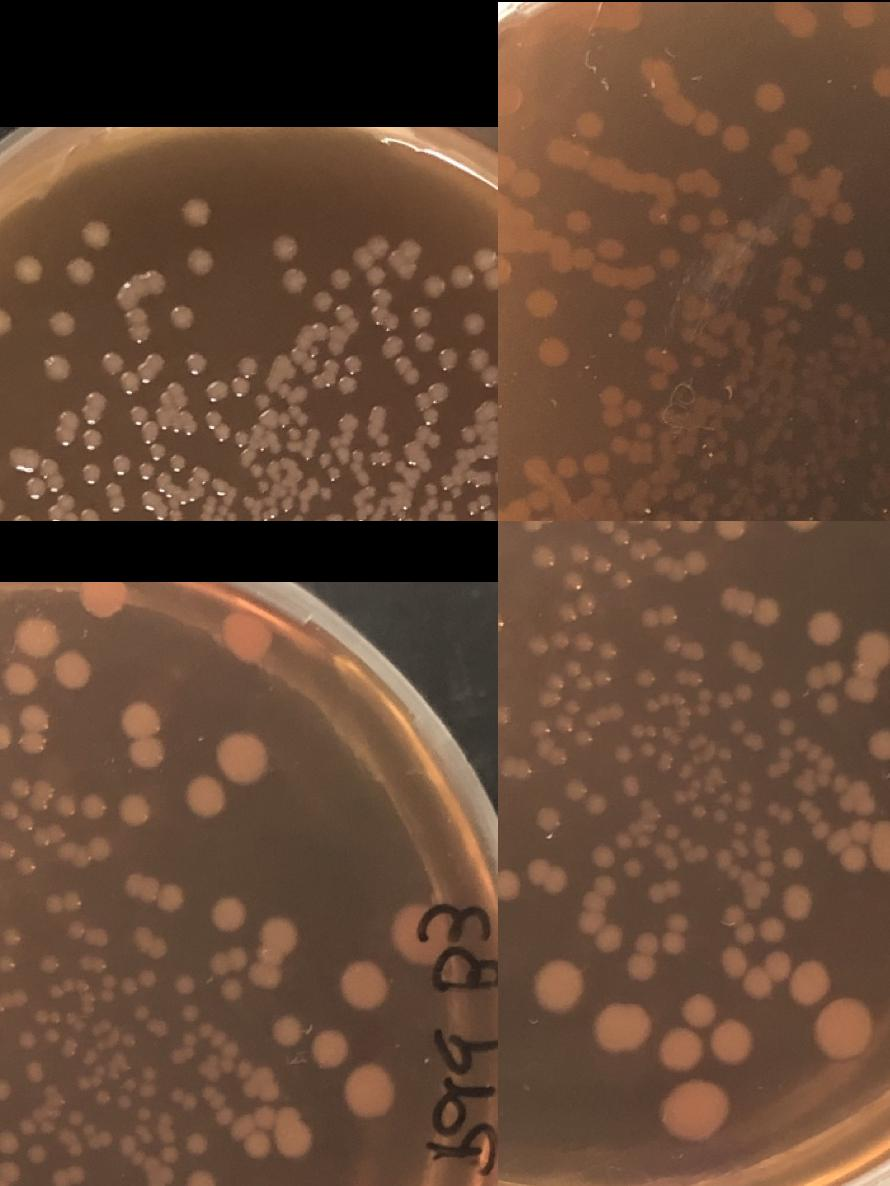assalmonicida: (546, 235, 657, 289), (788, 166, 856, 236), (498, 150, 540, 199), (600, 382, 644, 426), (773, 2, 820, 41), (768, 126, 810, 169), (642, 346, 680, 392), (498, 489, 549, 521), (676, 166, 721, 201), (618, 296, 646, 343), (756, 82, 788, 116), (524, 288, 556, 320), (536, 337, 568, 369), (564, 207, 595, 239), (573, 110, 604, 142), (498, 85, 522, 117), (842, 2, 874, 25), (648, 202, 672, 230), (640, 57, 664, 84), (523, 456, 547, 482), (556, 456, 580, 482), (565, 144, 589, 170), (583, 450, 607, 476), (597, 234, 621, 260), (657, 243, 681, 269), (670, 100, 694, 126), (676, 211, 700, 237), (842, 246, 866, 272), (696, 110, 719, 136), (724, 126, 746, 152), (607, 434, 629, 456), (632, 420, 654, 442), (706, 208, 728, 230), (736, 218, 758, 240), (782, 318, 804, 340), (792, 292, 814, 314), (808, 274, 830, 296), (831, 300, 853, 322), (780, 254, 802, 274), (498, 251, 511, 284), (875, 70, 890, 96)
pddamselae: (560, 657, 612, 695), (678, 991, 719, 1029), (1, 661, 41, 699), (53, 652, 93, 690), (118, 703, 158, 741), (186, 779, 226, 817), (210, 897, 250, 935), (806, 611, 846, 649), (309, 1032, 349, 1068), (18, 620, 57, 656), (115, 792, 154, 828), (0, 800, 34, 835), (593, 521, 630, 549), (710, 521, 750, 542), (0, 943, 16, 981), (526, 636, 550, 656), (550, 630, 573, 650), (8, 779, 30, 799), (15, 856, 37, 876), (16, 1032, 38, 1052), (538, 690, 560, 710), (568, 544, 590, 564), (574, 632, 596, 652), (590, 556, 612, 576), (611, 570, 633, 590), (573, 729, 594, 749), (2, 928, 24, 947), (39, 956, 61, 975), (561, 697, 583, 716), (598, 642, 620, 661), (612, 746, 634, 765), (635, 669, 657, 688), (782, 521, 822, 531), (532, 550, 554, 568), (561, 574, 583, 592), (0, 842, 16, 862)
vharveyi: (350, 232, 399, 332), (54, 388, 108, 444), (202, 356, 258, 402), (116, 352, 165, 396), (20, 458, 66, 503), (128, 407, 166, 460), (412, 381, 450, 426), (310, 290, 353, 325), (334, 354, 365, 398), (466, 346, 498, 388), (471, 246, 498, 294), (136, 463, 176, 490), (202, 411, 231, 441), (288, 346, 318, 374), (126, 306, 148, 344), (47, 492, 75, 521), (14, 258, 42, 286), (66, 258, 94, 286), (84, 221, 112, 249), (182, 196, 210, 224), (184, 249, 212, 277), (270, 232, 298, 260), (280, 266, 308, 294), (392, 357, 420, 385), (418, 274, 446, 302), (447, 264, 475, 292), (459, 309, 487, 337), (102, 481, 125, 513), (44, 354, 70, 382), (48, 310, 74, 338), (169, 306, 193, 330), (326, 266, 350, 290), (398, 239, 422, 263), (406, 302, 430, 326), (412, 332, 436, 356), (79, 462, 102, 486), (80, 428, 102, 452), (144, 271, 166, 295), (184, 354, 208, 376), (436, 347, 458, 371), (100, 351, 122, 374), (384, 336, 405, 354), (138, 491, 158, 509), (251, 392, 271, 410), (333, 446, 353, 464), (403, 443, 422, 461), (167, 454, 187, 471), (340, 414, 358, 432), (111, 458, 130, 475), (8, 450, 28, 466), (154, 408, 174, 424), (167, 382, 187, 398), (374, 432, 391, 449), (481, 401, 498, 418), (0, 307, 10, 335), (277, 409, 290, 429), (277, 382, 292, 399), (78, 509, 97, 521)
